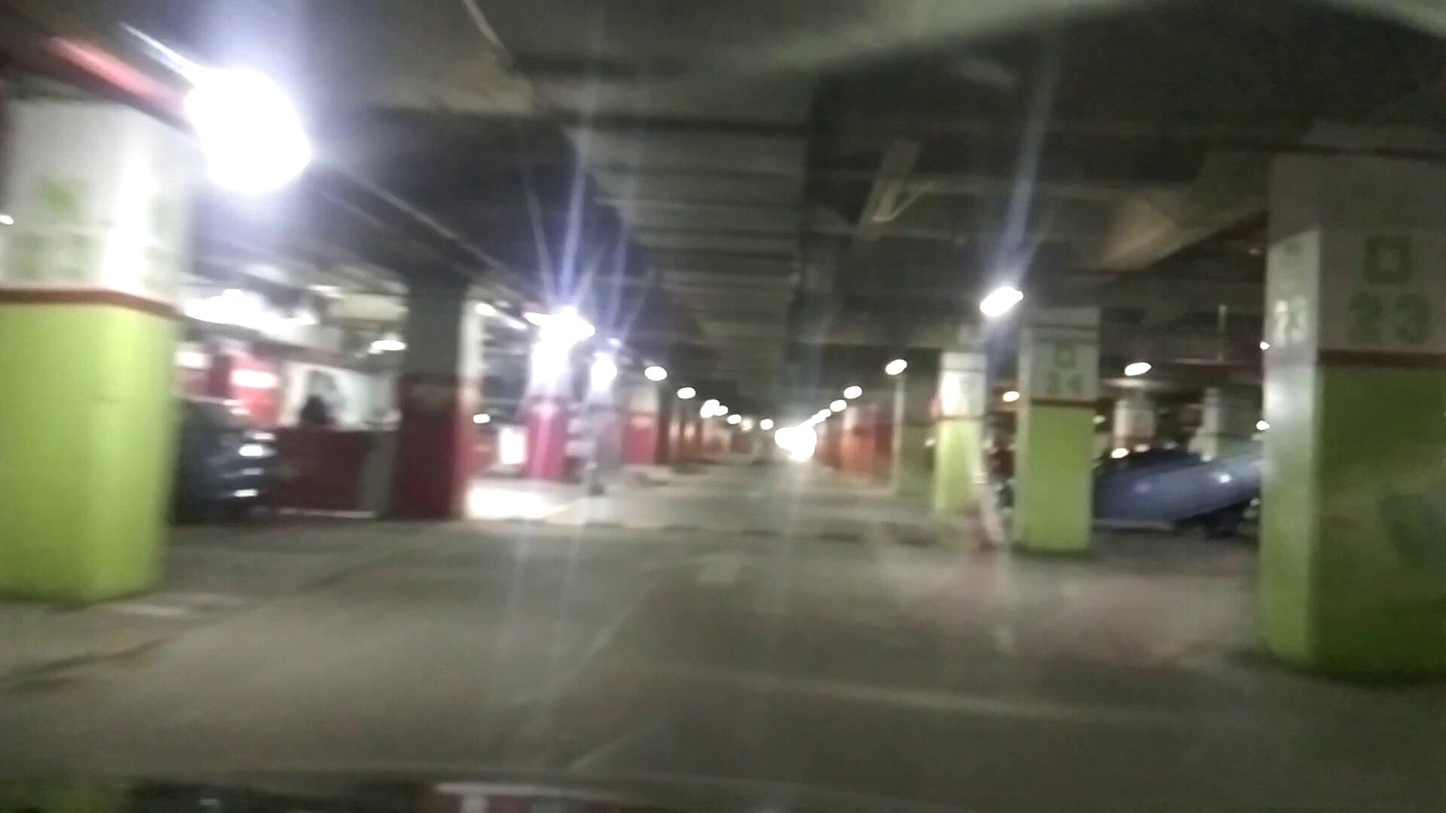Bump: (471, 506, 1020, 550)
